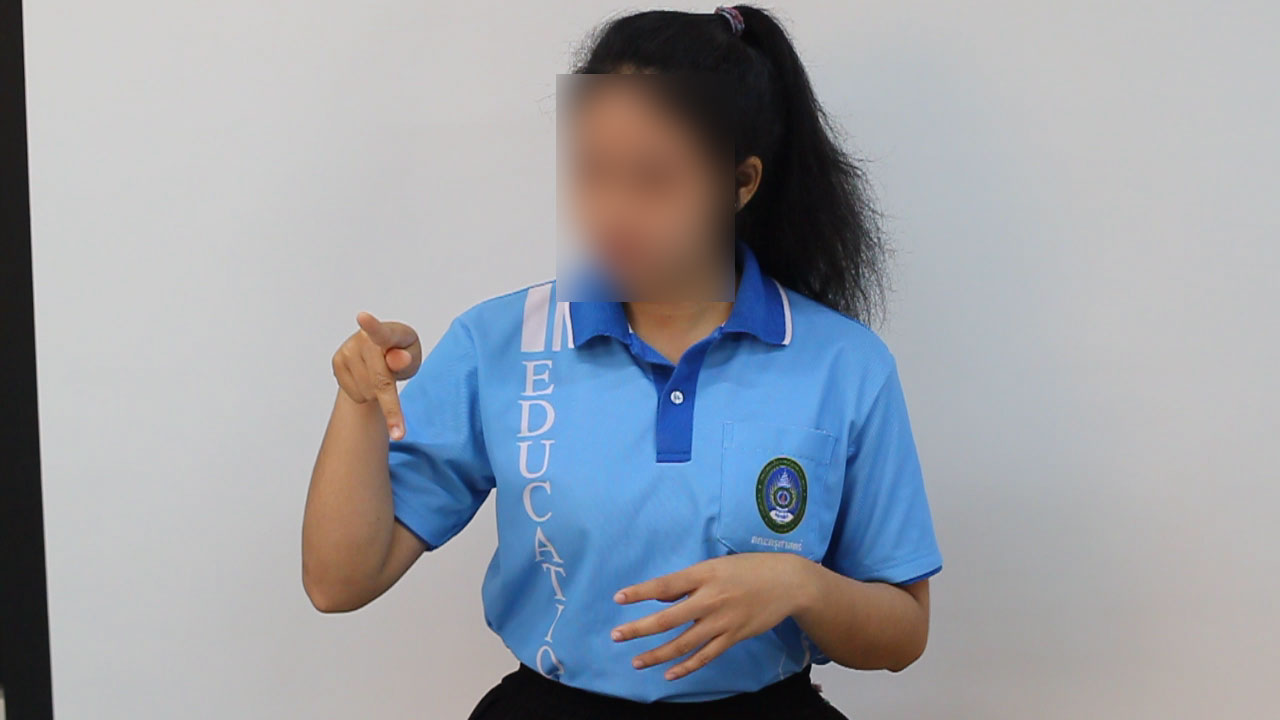por: (325, 297, 431, 455)
